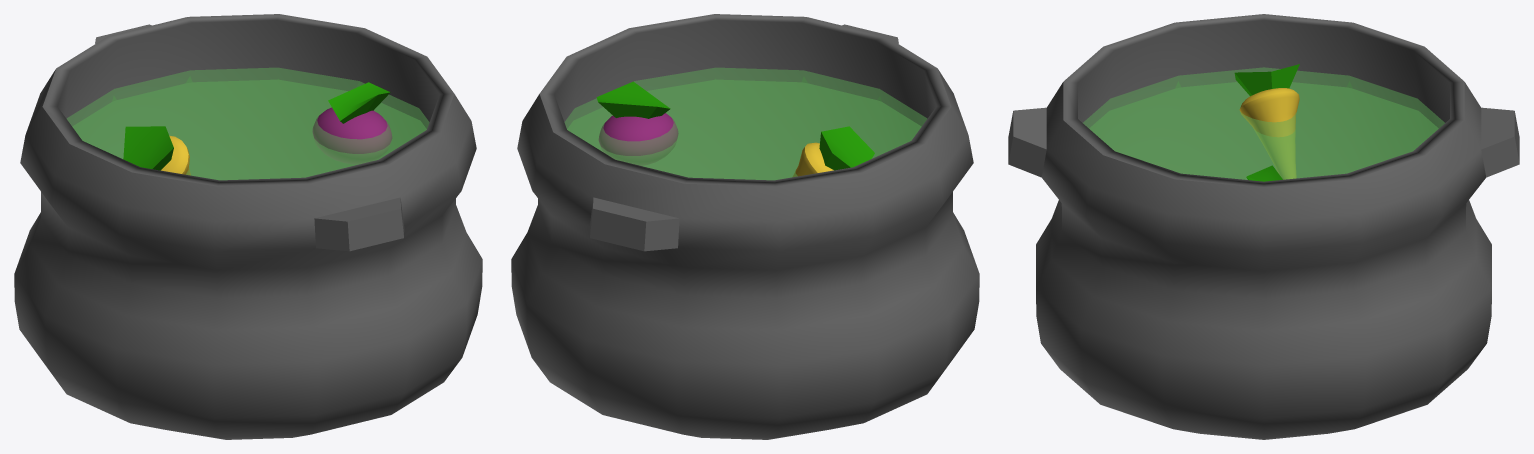
The model's file is cauldron.fbx.
3 renders of one model, left to right at view 1: azimuth 30°, elevation 25°; view 2: azimuth 150°, elevation 25°; view 3: azimuth 270°, elevation 25°, orthographic.
Parts seen in each view (by area): view 1: polySurface24; view 2: polySurface24; view 3: polySurface24.
Boxes of the visible parts, left/top/right/bottom form: polySurface24: left=14, top=14, right=482, bottom=439; polySurface24: left=511, top=14, right=979, bottom=439; polySurface24: left=1008, top=14, right=1519, bottom=439.
Size of the model in its own units: 10.75 by 7 by 11.75.
